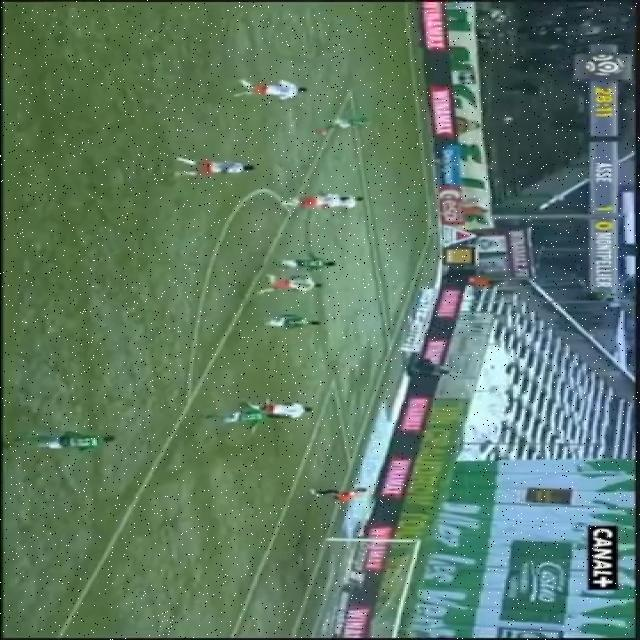ball: (311, 129, 342, 145)
goalkeeper: (284, 474, 396, 514)
player: (7, 416, 134, 464), (163, 145, 274, 185), (186, 68, 309, 104), (260, 248, 350, 278), (202, 400, 284, 431), (247, 307, 342, 333), (303, 109, 388, 137), (276, 186, 355, 216), (245, 274, 329, 296), (247, 396, 322, 420)
